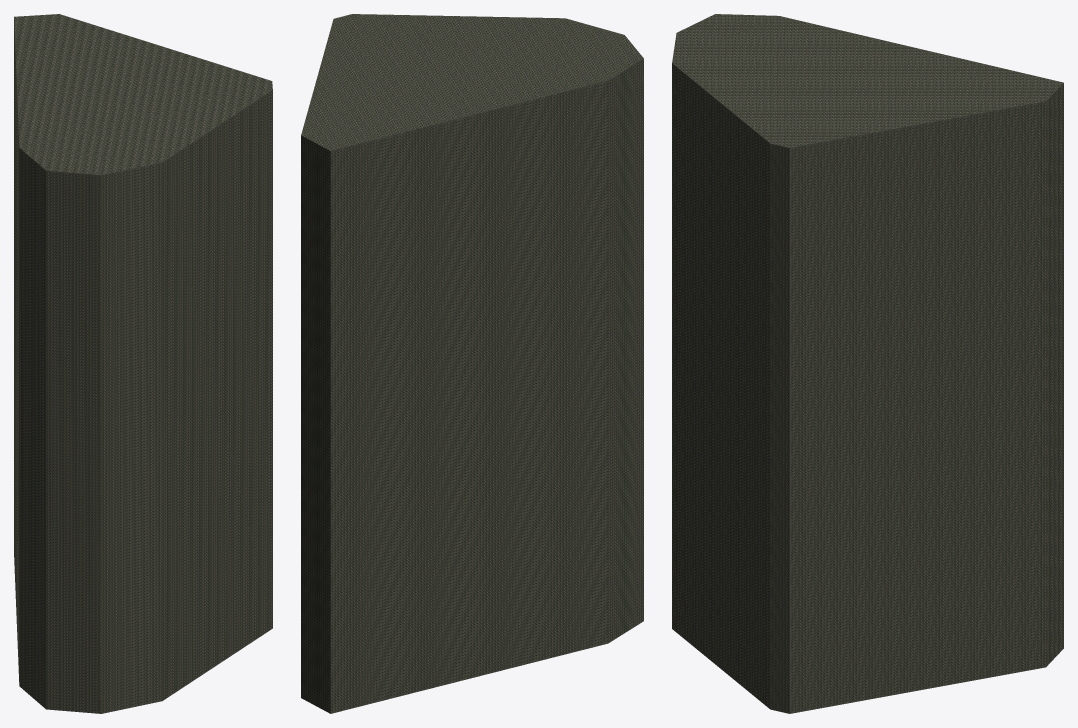
File: BuildingA.fbx
3 renders of one model, left to right at view 1: azimuth 30°, elevation 25°; view 2: azimuth 150°, elevation 25°; view 3: azimuth 270°, elevation 25°, orthographic. The views are drawn at different scales.
Visible parts, largest first — view 1: BuildingA; view 2: BuildingA; view 3: BuildingA.
Boxes of the visible parts, <box> form: BuildingA: <box>14,14,272,713</box>; BuildingA: <box>301,14,643,713</box>; BuildingA: <box>672,14,1063,713</box>.
Size of the model in its own units: 9149 by 18000 by 11297.
1 material, 1 textured.
